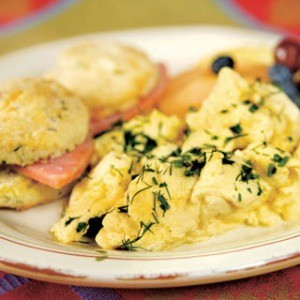egg_brain food: (151, 126, 232, 239)
